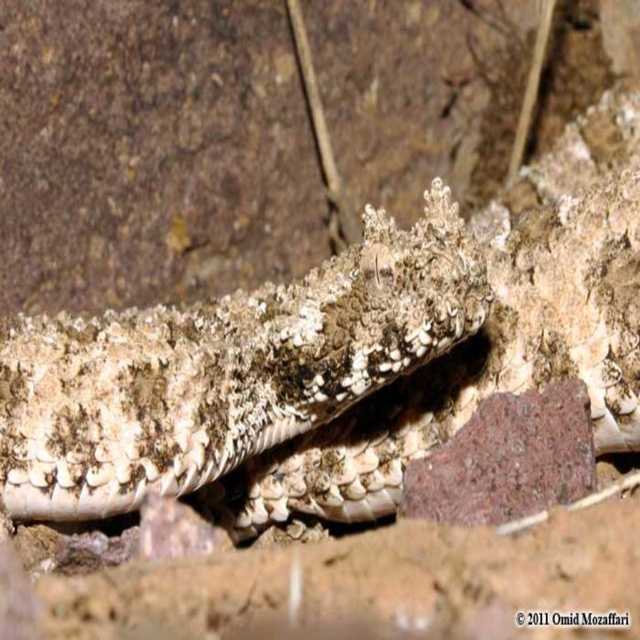Snake: (5, 170, 640, 567)
